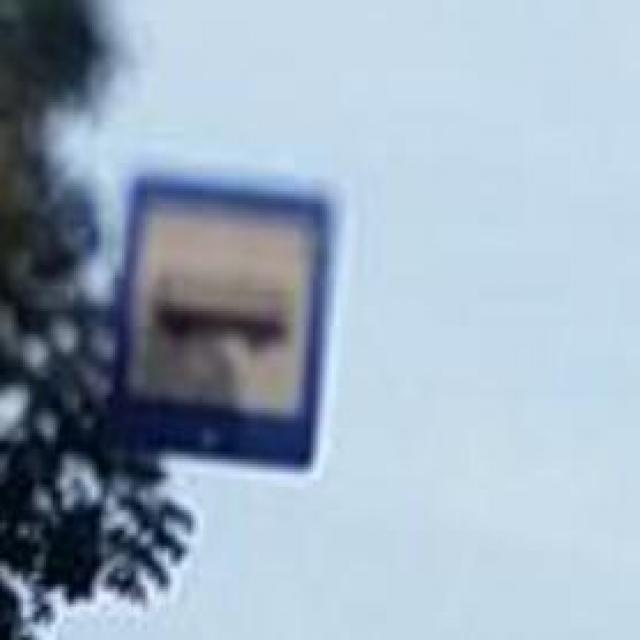traffic sign: (104, 176, 336, 477)
